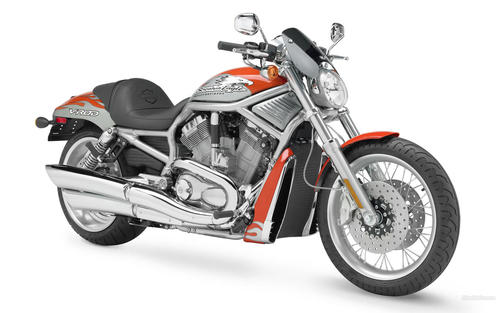motor: (38, 18, 461, 296)
